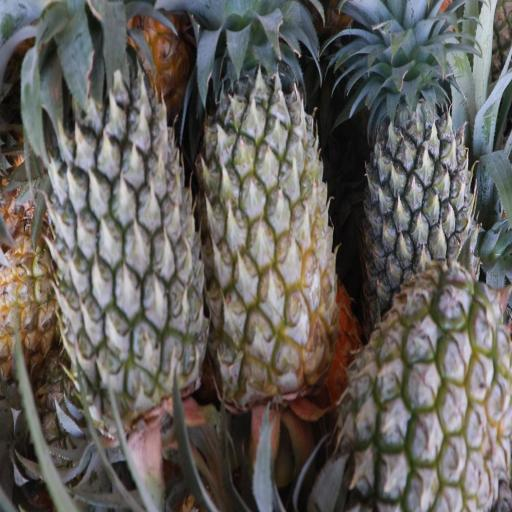------------------------------: (198, 32, 330, 399), (348, 276, 512, 510)
Pineapple - v8 v1: (0, 244, 67, 370)
